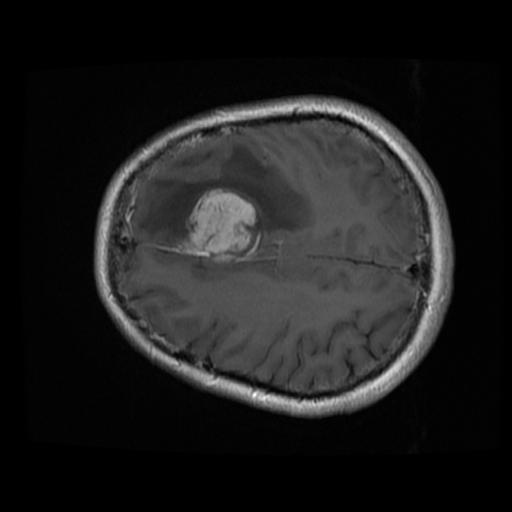meningioma: (142, 144, 313, 260)
